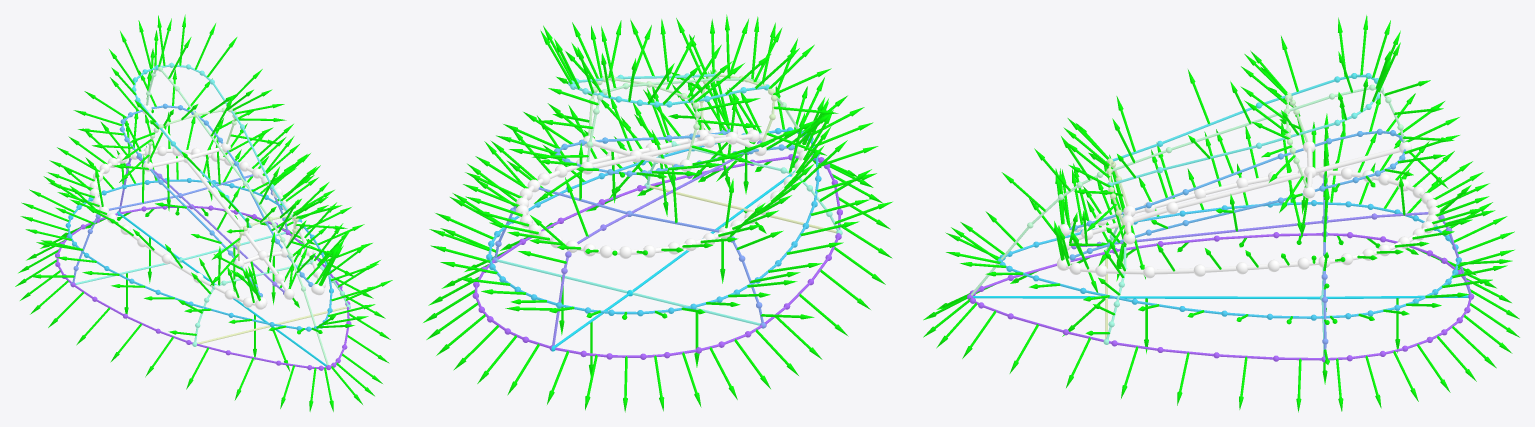
Rendered from t2f_iron.gltf.
3 views of the same model, side by side, from view 1: azimuth 30°, elevation 25°; view 2: azimuth 150°, elevation 25°; view 3: azimuth 270°, elevation 25° (orthographic). The views are drawn at different scales.
Bounding box in the file's own units: 0.6616 × 0.5608 × 0.9547.
